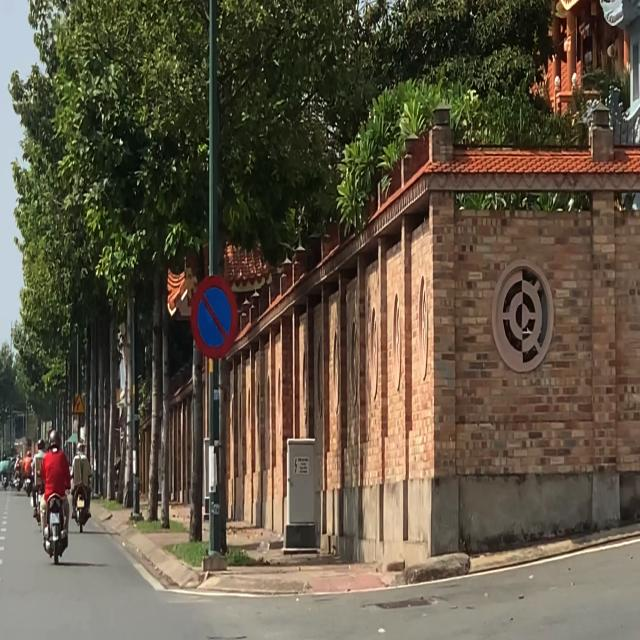Cam do: (190, 274, 238, 359)
Nguy hiem: (72, 393, 86, 415)
